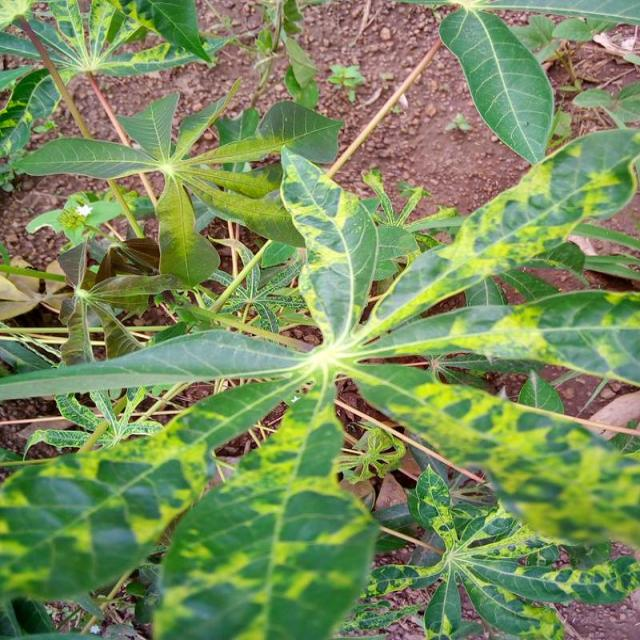cassava leaf: (150, 383, 380, 638), (277, 144, 378, 347), (438, 5, 554, 166)
